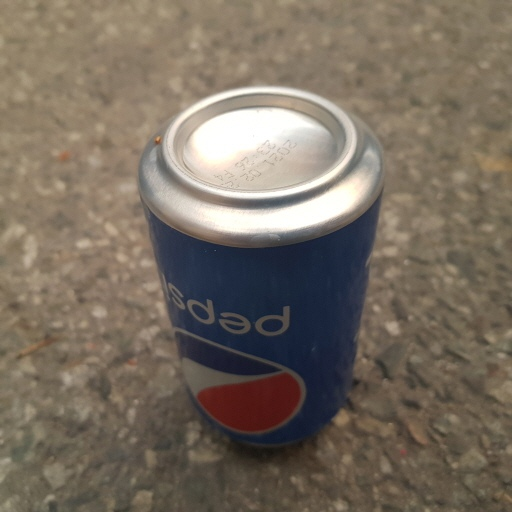Metal_0: (138, 83, 385, 456)
